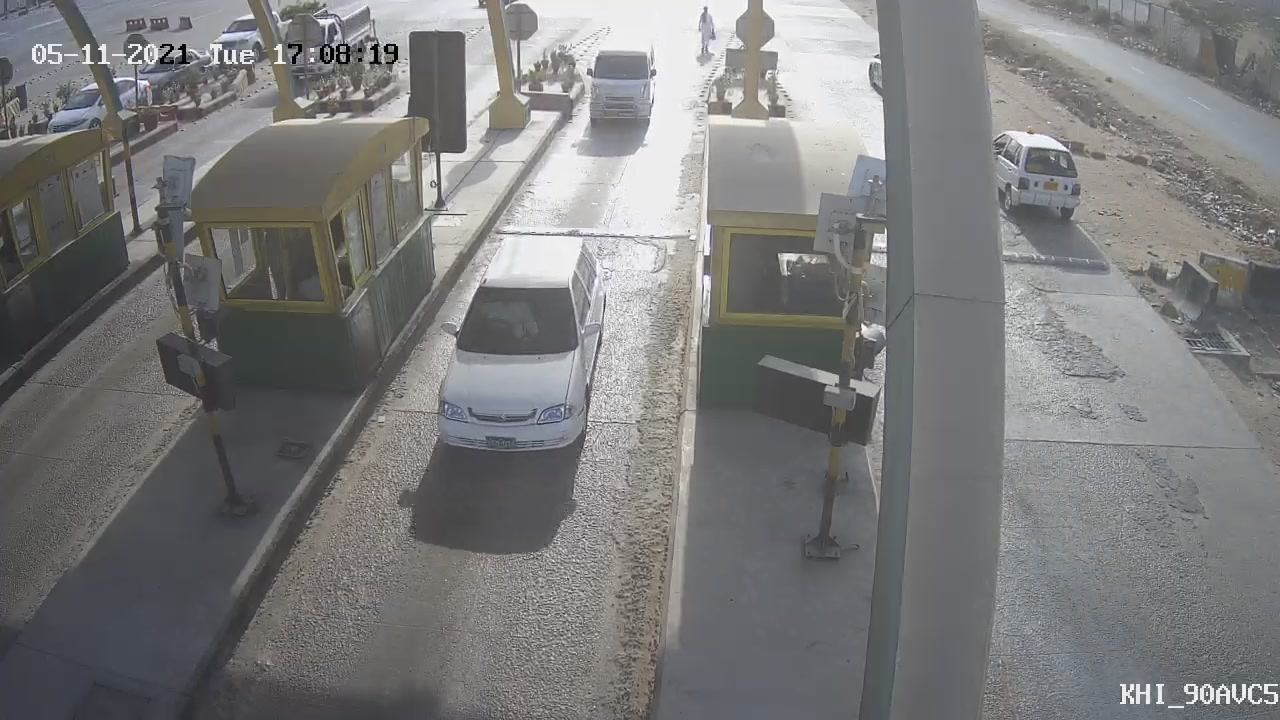F1: (405, 218, 624, 470)
